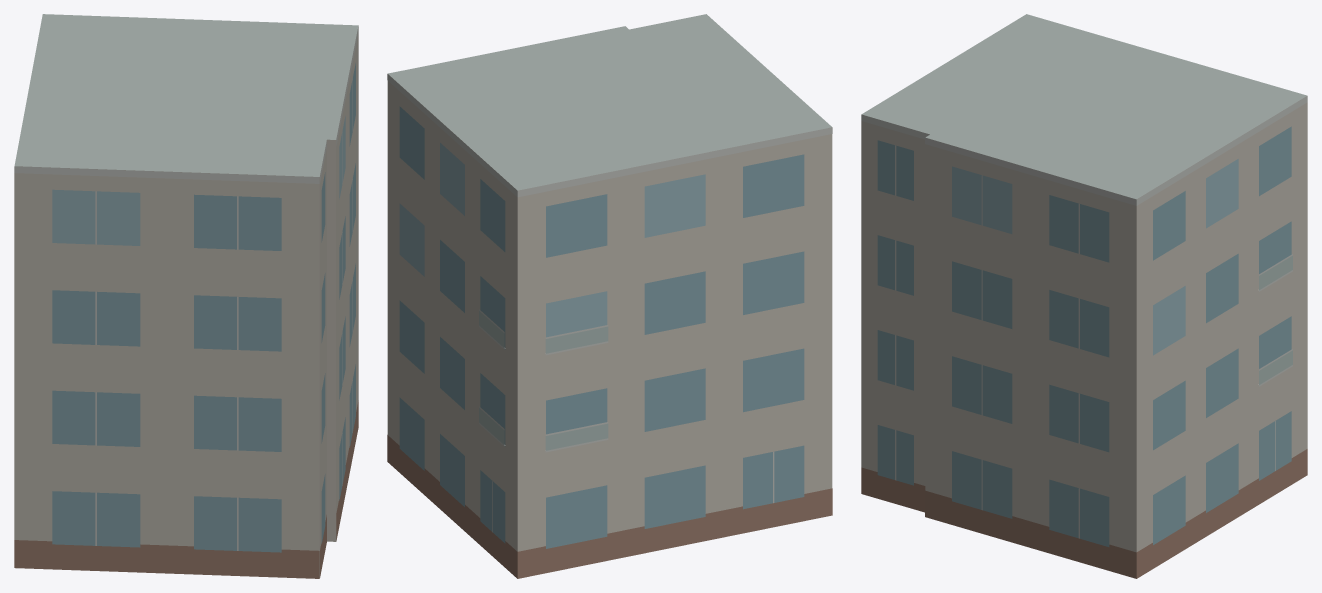
The model's file is survey-upis-32606407.glb.
The picture shows the model from 3 angles, left to right: view 1: azimuth 30°, elevation 25°; view 2: azimuth 150°, elevation 25°; view 3: azimuth 270°, elevation 25°; orthographic projection. The views are drawn at different scales.
Visible parts, largest first — view 1: survey-upis-32606407.tmp; view 2: survey-upis-32606407.tmp; view 3: survey-upis-32606407.tmp.
Boxes of the visible parts, x1,y1,x2,y2 form: survey-upis-32606407.tmp: [14, 14, 358, 578]; survey-upis-32606407.tmp: [387, 14, 832, 578]; survey-upis-32606407.tmp: [861, 14, 1307, 578].
Size of the model in its own units: 14.72 by 14.04 by 14.97.
